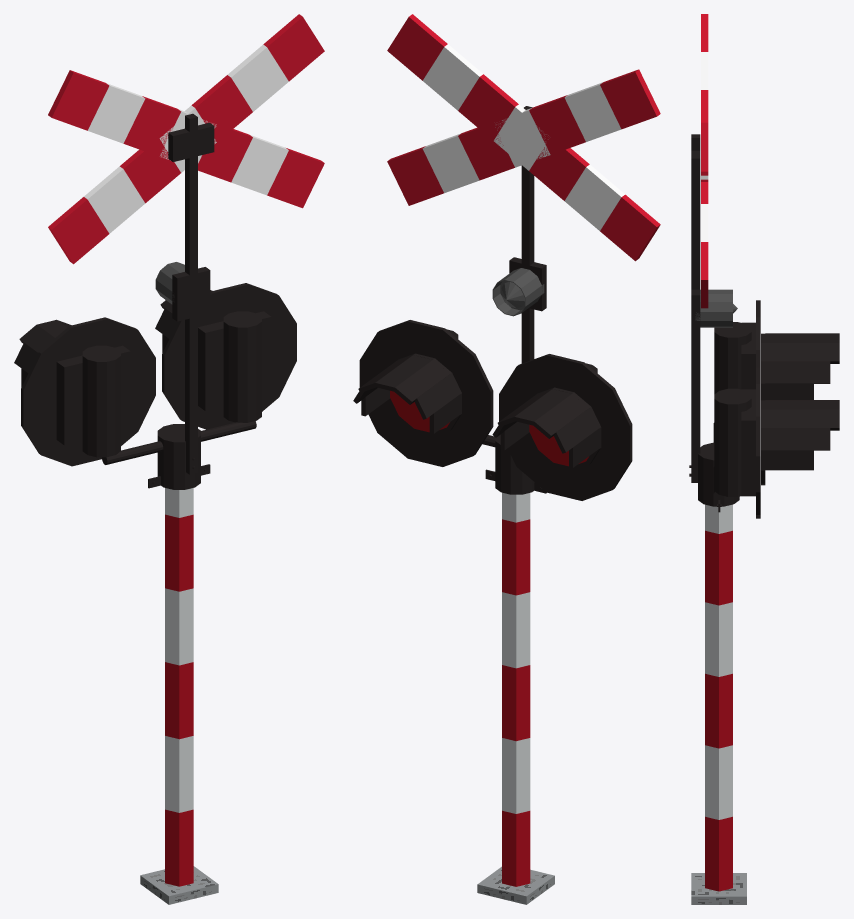
File: sd-k2_with_bell_single_track.obj
3 views of the same model, side by side, from view 1: azimuth 30°, elevation 25°; view 2: azimuth 150°, elevation 25°; view 3: azimuth 270°, elevation 25° (orthographic). The views are drawn at different scales.
Parts seen in each view (by area): view 1: cylinder; view 2: cylinder, mrygR, mrygL; view 3: cylinder.
Part boxes in pixels (box(x1,y1,x2,y2)): cylinder: box(14, 14, 324, 904); cylinder: box(353, 14, 660, 904); mrygR: box(390, 390, 449, 432); mrygL: box(529, 424, 588, 466); cylinder: box(689, 14, 839, 904).
Size of the model in its own units: 1.03 by 3.06 by 0.5063.
